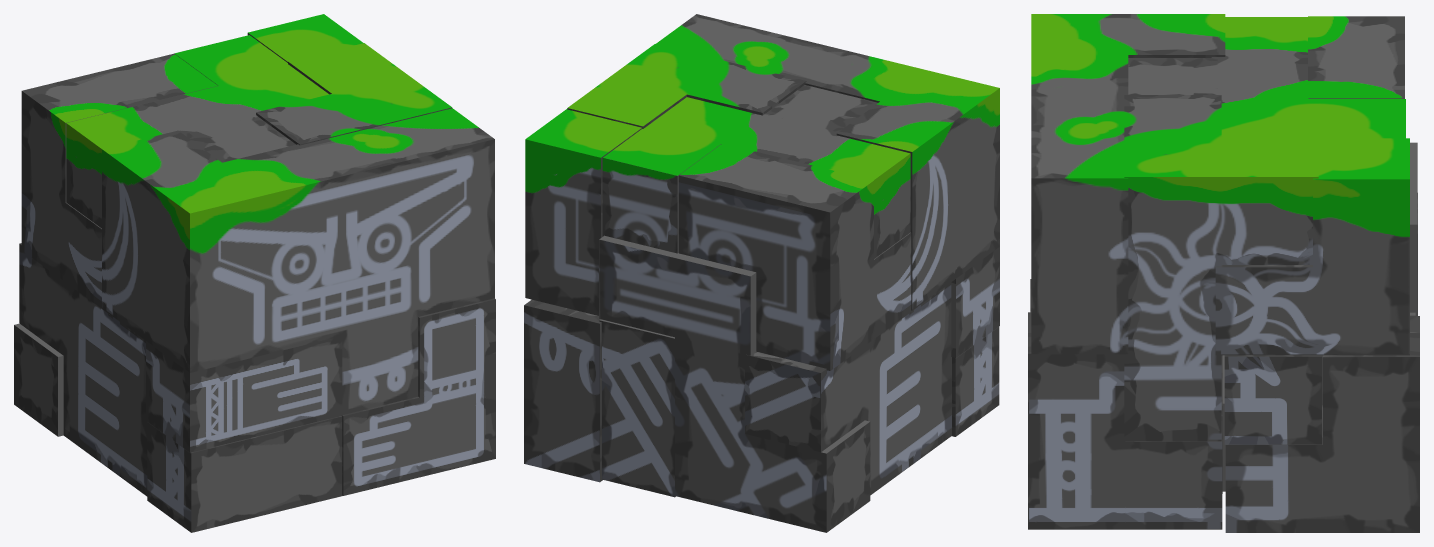
Rendered from BOSS.FBX.
3 renders of one model, left to right at view 1: azimuth 30°, elevation 25°; view 2: azimuth 150°, elevation 25°; view 3: azimuth 270°, elevation 25°, orthographic. The views are drawn at different scales.
Visible parts, largest first — view 1: Object001, Object004, Object005, Object007, Object013, Object003, Object002, Object006, Object012, Object008; view 2: Object012, Object007, Object001, Object005, Object013, Object008, Object010, Object015, Object006, Object002, Object003; view 3: Object006, Object001, Object008, Object010, Object004, Object005, Object009, Object007, Object012, Object015.
Boxes of the visible parts, bbox=[...] form: Object001: bbox=[102, 108, 494, 414]; Object004: bbox=[342, 298, 495, 495]; Object005: bbox=[66, 35, 328, 228]; Object007: bbox=[21, 53, 217, 314]; Object013: bbox=[19, 243, 147, 496]; Object003: bbox=[147, 416, 342, 532]; Object002: bbox=[146, 336, 342, 452]; Object006: bbox=[256, 43, 452, 145]; Object012: bbox=[14, 323, 63, 436]; Object008: bbox=[247, 14, 363, 62]; Object012: bbox=[599, 235, 870, 532]; Object007: bbox=[678, 143, 917, 370]; Object001: bbox=[656, 14, 999, 310]; Object005: bbox=[602, 85, 910, 258]; Object013: bbox=[745, 282, 951, 495]; Object008: bbox=[525, 109, 642, 315]; Object010: bbox=[524, 299, 602, 482]; Object015: bbox=[599, 319, 675, 497]; Object006: bbox=[567, 44, 806, 128]; Object002: bbox=[951, 247, 999, 357]; Object003: bbox=[952, 327, 999, 436]; Object006: bbox=[1124, 95, 1318, 441]; Object001: bbox=[1031, 14, 1225, 354]; Object008: bbox=[1215, 138, 1409, 355]; Object010: bbox=[1225, 316, 1419, 532]; Object004: bbox=[1028, 312, 1222, 529]; Object005: bbox=[1128, 17, 1405, 138]; Object009: bbox=[1224, 355, 1321, 444]; Object007: bbox=[1308, 16, 1404, 98]; Object012: bbox=[1410, 142, 1417, 315]; Object015: bbox=[1222, 312, 1415, 491].
Size of the model in its own units: 402 by 406 by 403.
14 materials, 14 textured.
